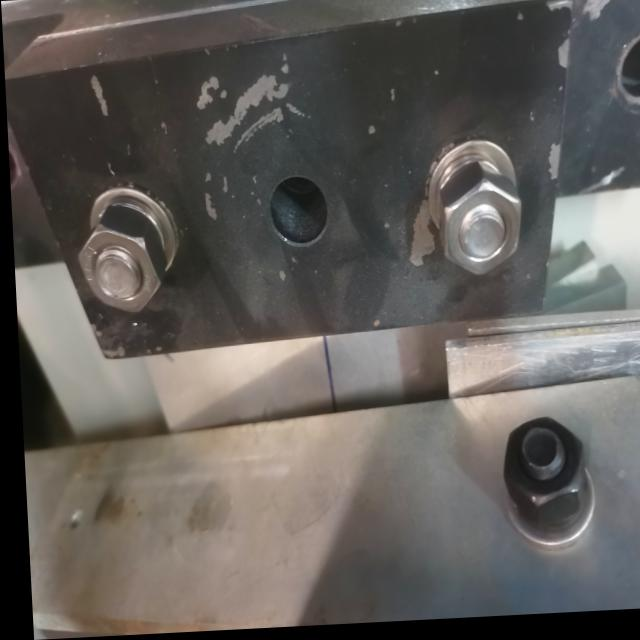Missing bolt: (254, 171, 337, 260)
Regular bolt: (431, 162, 521, 282), (71, 206, 165, 318), (497, 419, 583, 533)
